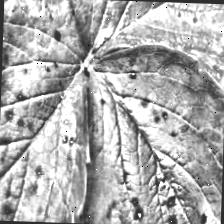Leaf Spot: (81, 41, 224, 224), (0, 0, 95, 223), (56, 0, 224, 82)
